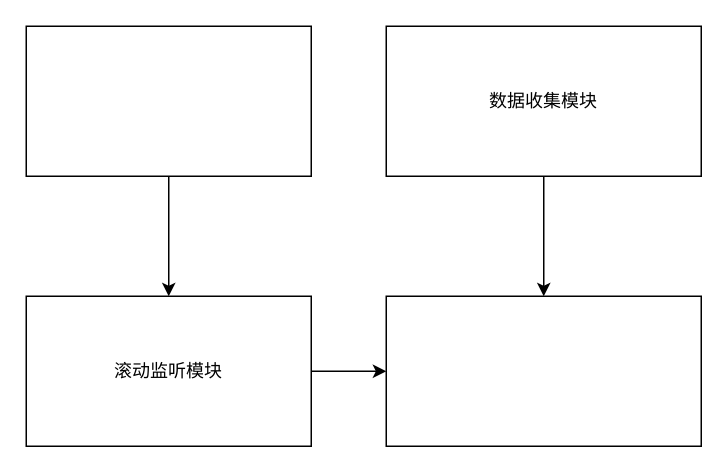
This 728x473 diagram has some shape labels left out. Each missing label, with the centre of its shape:
"数据上报模块" belongs at [543,370].
"曝光配置模块（滚动距离、延时上报）" belongs at [168,100].
